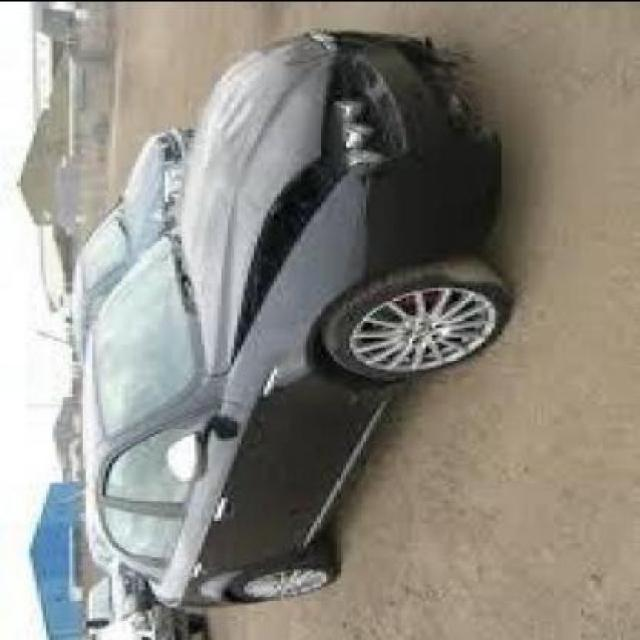damage: (232, 22, 499, 360)
